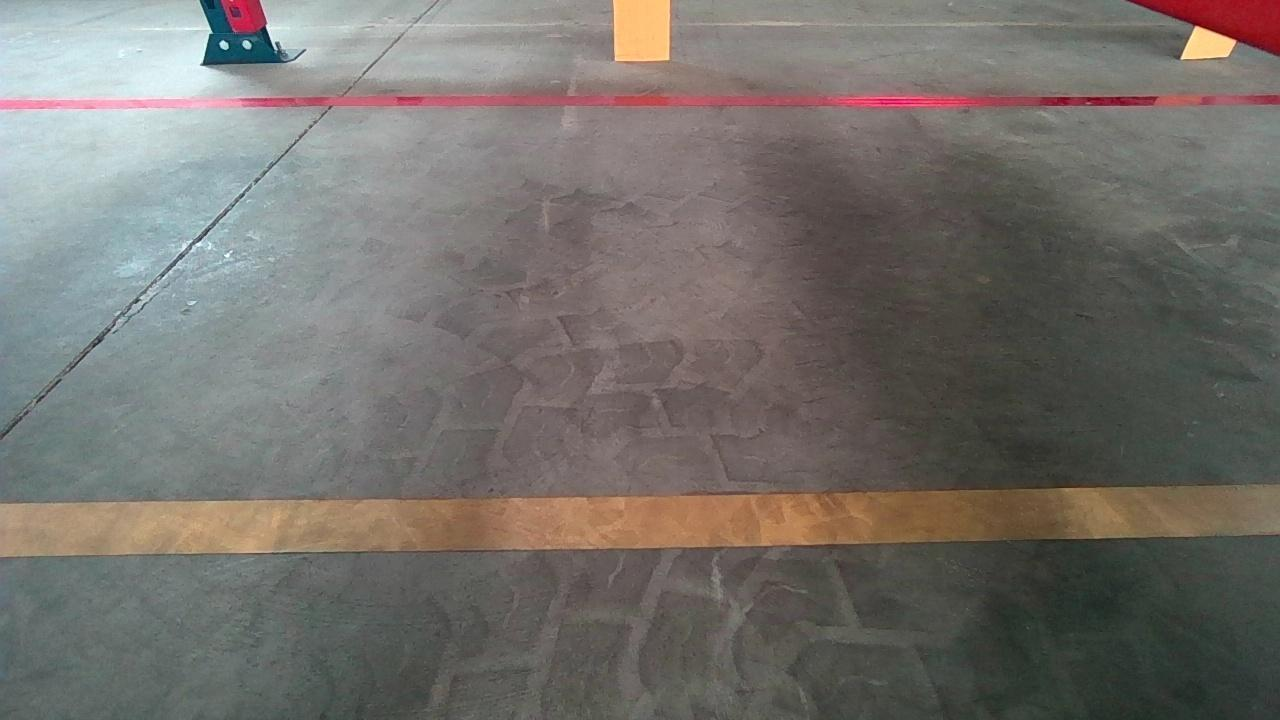red_line: (32, 92, 1267, 117)
yellow_line: (3, 482, 1280, 558)
